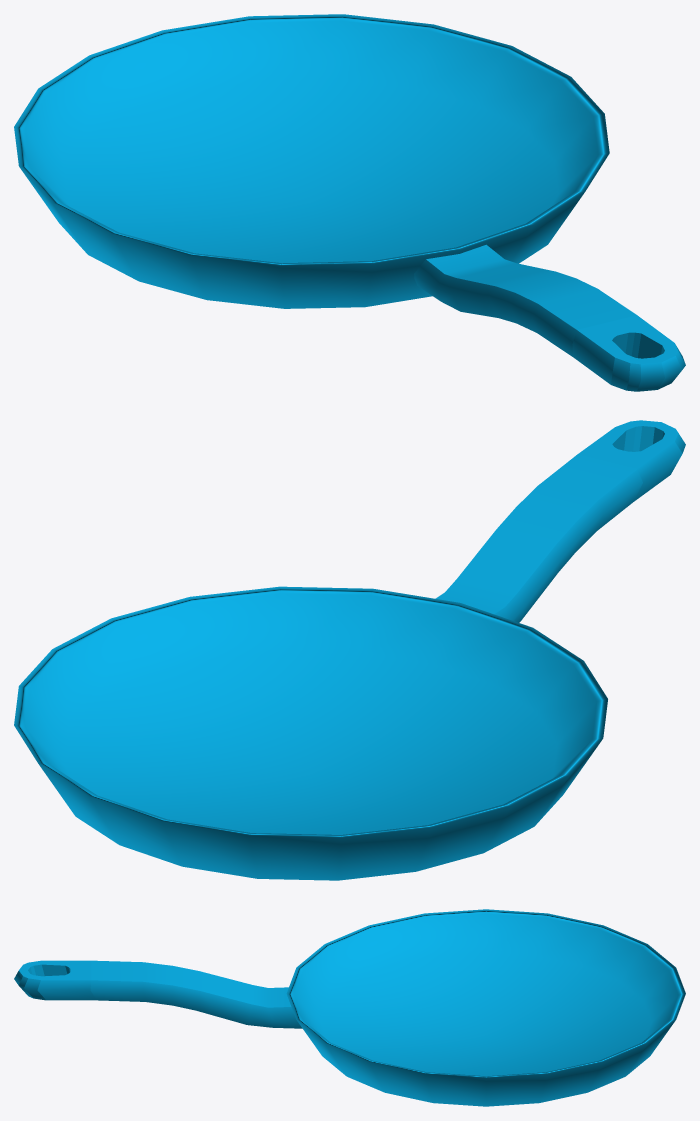
File: Pancake_Stove_01_Lod0.fbx
3 views of the same model, one above another, from view 1: azimuth 30°, elevation 25°; view 2: azimuth 150°, elevation 25°; view 3: azimuth 270°, elevation 25° (orthographic). The views are drawn at different scales.
Visible parts, largest first — view 1: Pancake_Stove_01_Lod0; view 2: Pancake_Stove_01_Lod0; view 3: Pancake_Stove_01_Lod0.
Boxes of the visible parts, bbox=[...] form: Pancake_Stove_01_Lod0: bbox=[14, 14, 685, 391]; Pancake_Stove_01_Lod0: bbox=[14, 420, 685, 880]; Pancake_Stove_01_Lod0: bbox=[14, 909, 685, 1106].
Size of the model in its own units: 40.15 by 7.35 by 67.55.
